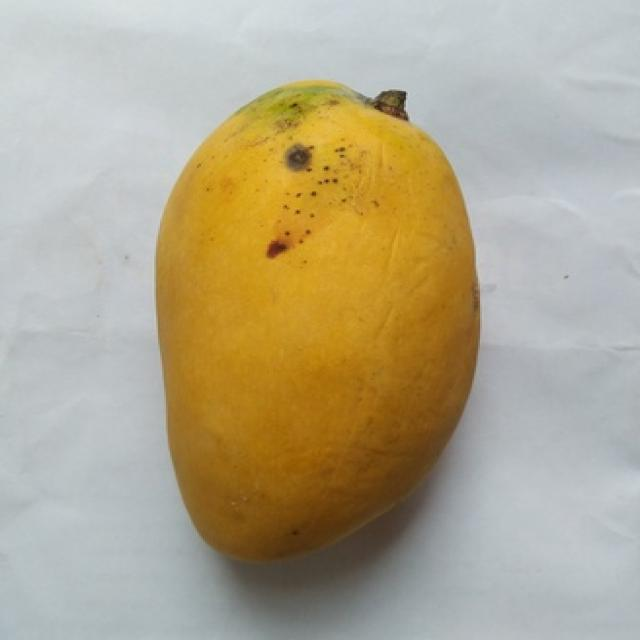Mango: (156, 81, 478, 560)
